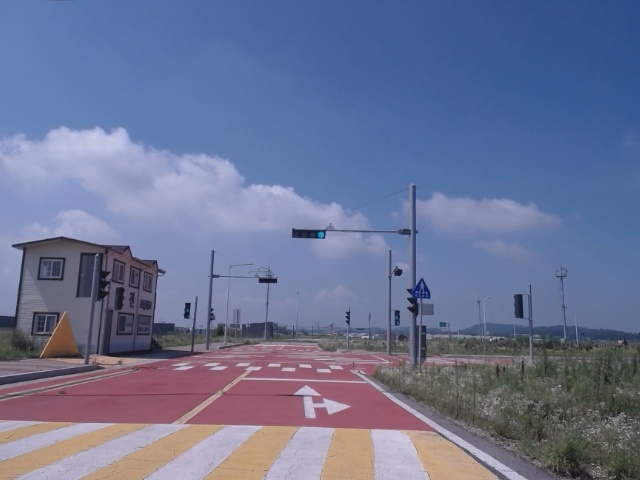straight_green_4: (292, 230, 326, 239)
